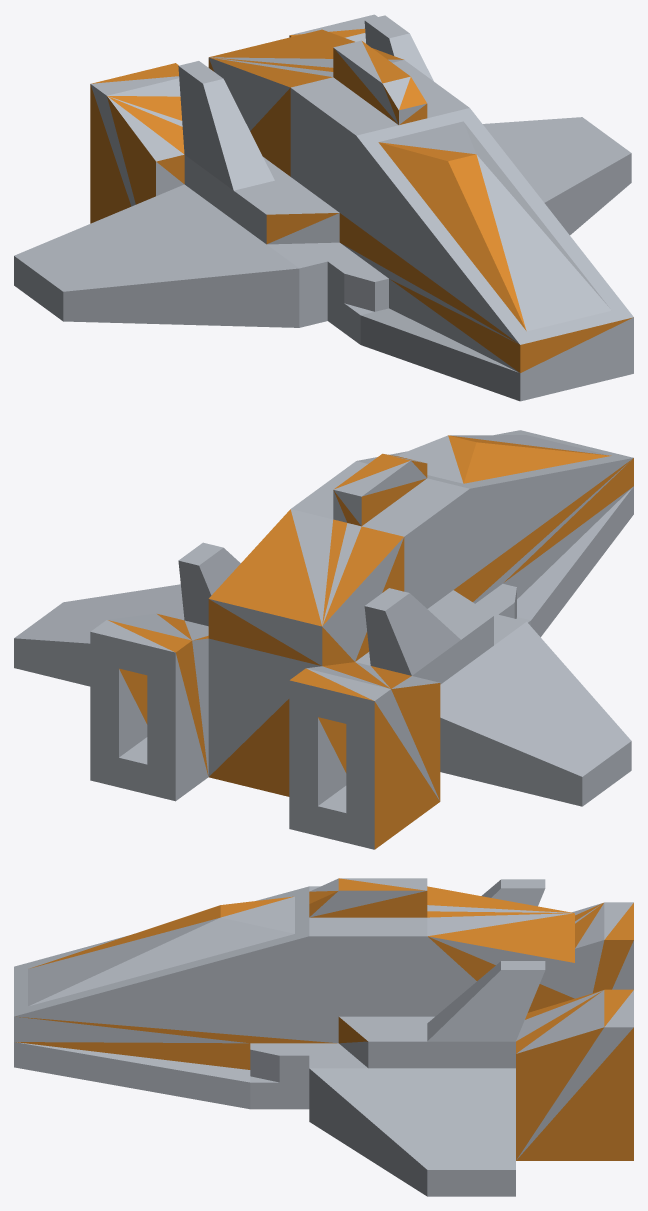
File: attackheli.glb
The picture shows the model from 3 angles, top to bottom: view 1: azimuth 30°, elevation 25°; view 2: azimuth 150°, elevation 25°; view 3: azimuth 270°, elevation 25°; orthographic projection. The views are drawn at different scales.
Size of the model in its own units: 20 by 8 by 21.
